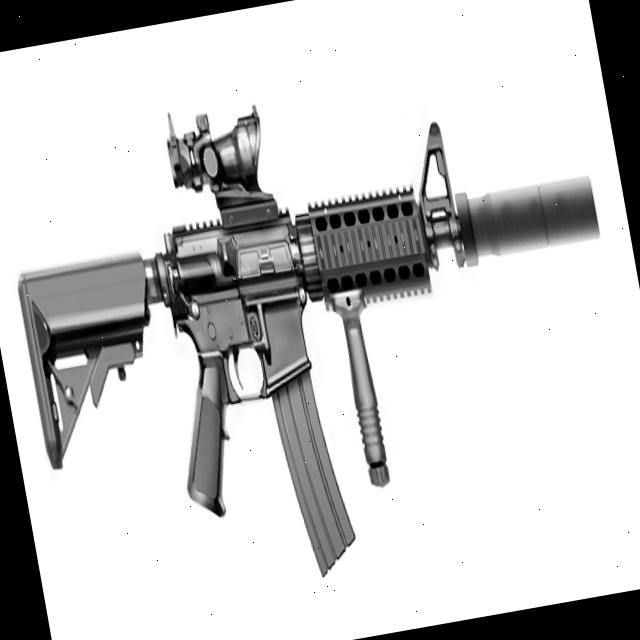Automaticrifle: (0, 48, 640, 626)
